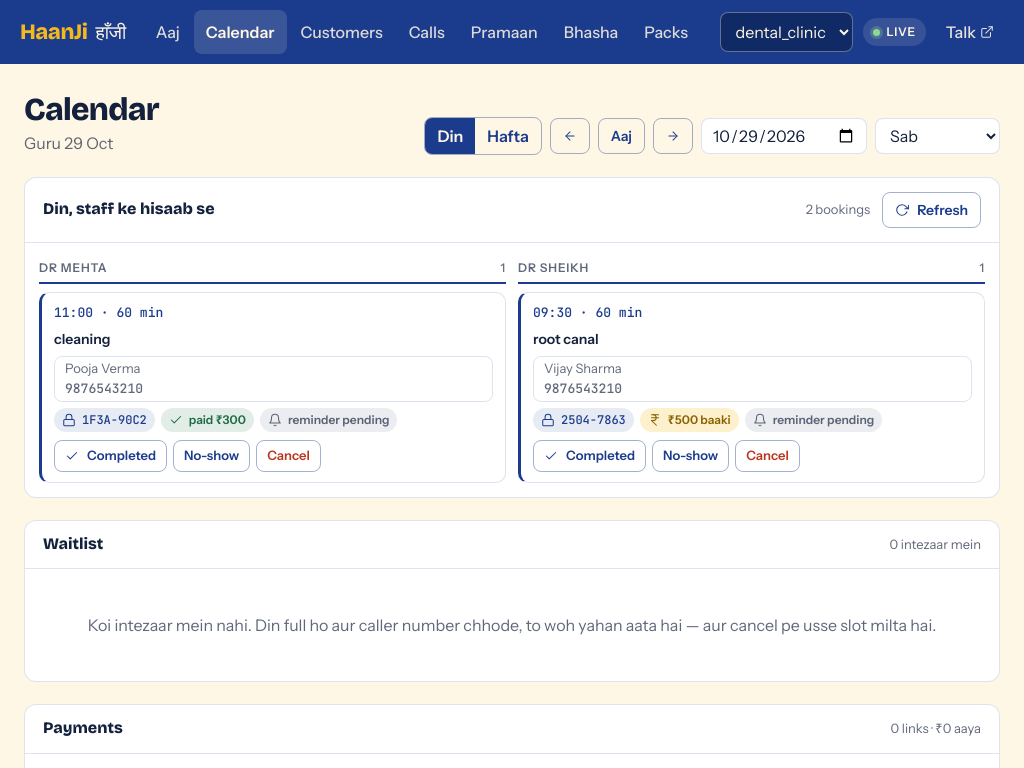
Test: calendar › renders the day's bookings by staff and cancels one through the engine
Expected: the text "root canal" is shown, x1=533 y1=330 x2=599 y2=348
Expected: the text "Vijay Sharma" is shown, x1=544 y1=361 x2=622 y2=376
Click the button "Cancel" below "2504-7863": x=768, y=456 x1=735 y1=440 x2=800 y2=472
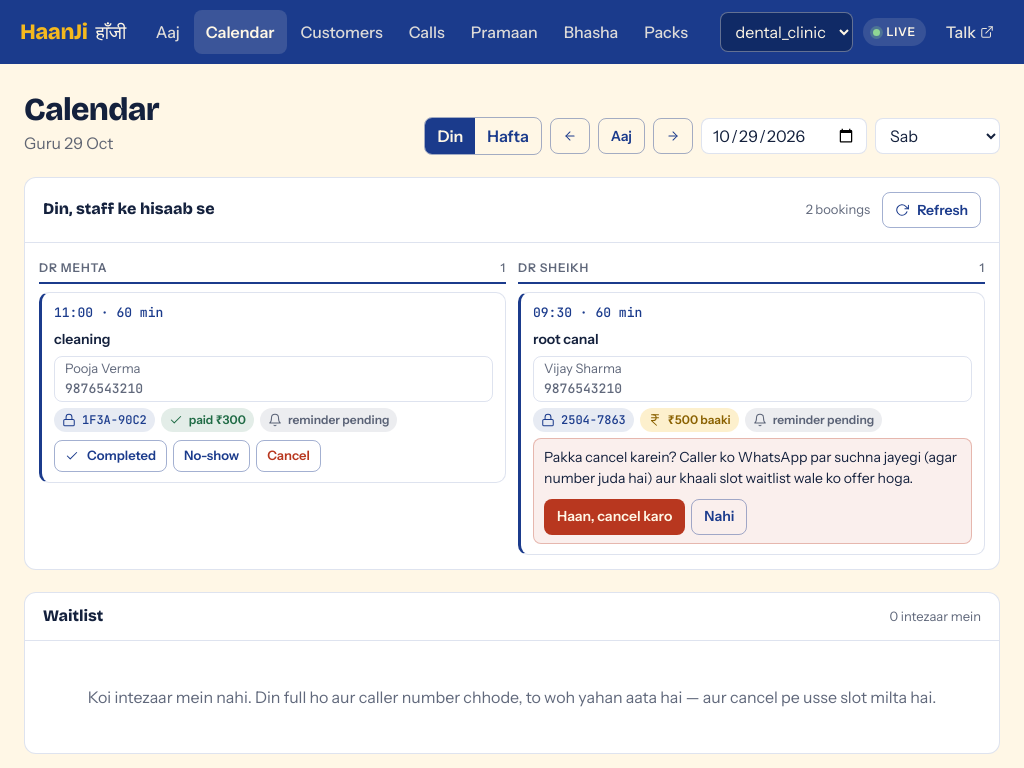
Click the button "Haan, cancel karo": x=615, y=517 x1=544 y1=499 x2=685 y2=535
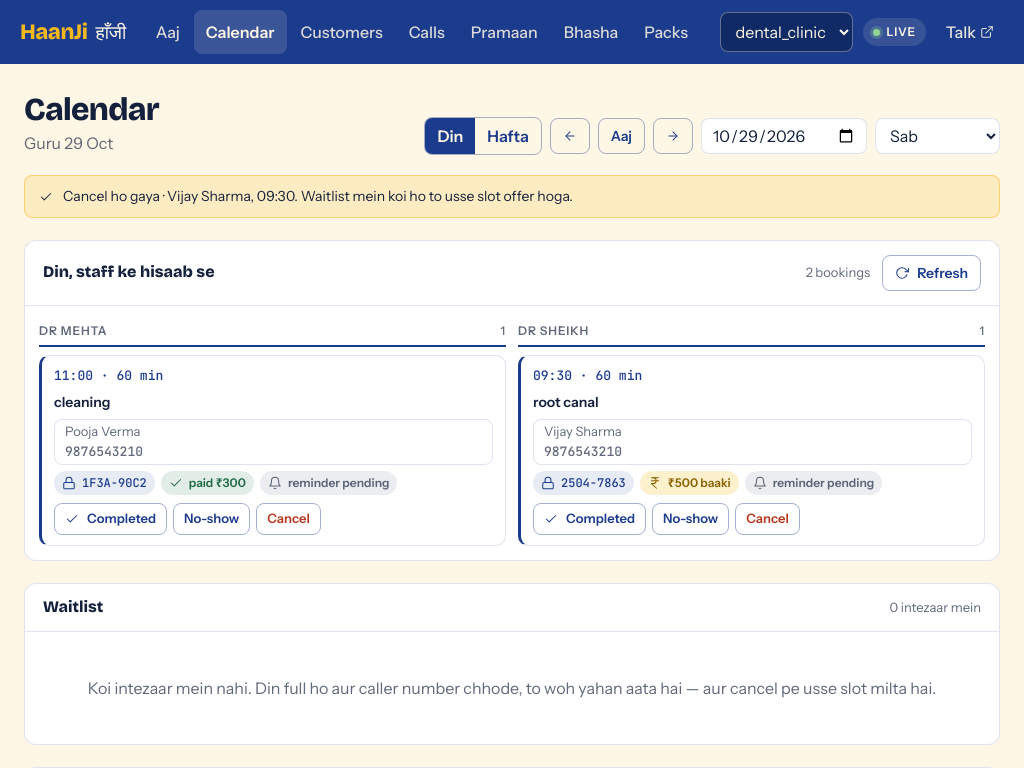
Expected: the text "Cancel ho gaya" is shown, x1=63 y1=187 x2=573 y2=205
